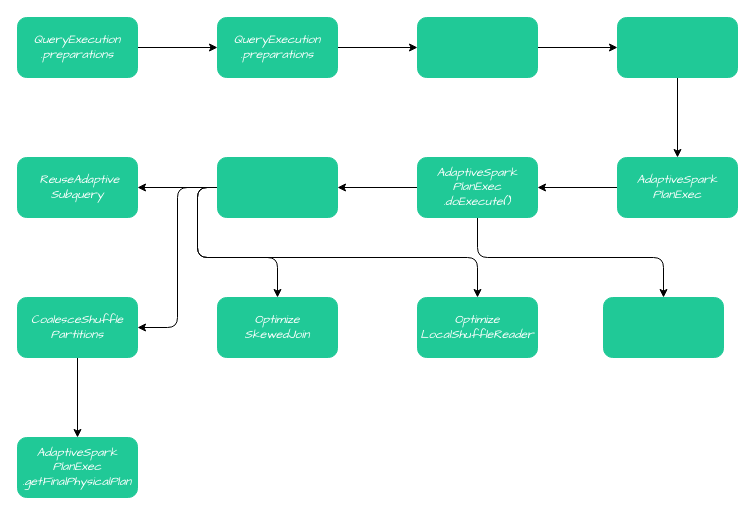
The diagram is 755 pixels wide and 515 high, and some of its shapes have lost their labels. Each missing label, with the centre of its shape:
"AdaptiveSpark PlanExec . optimizer" belongs at point (663, 327).
"AdaptiveSpark PlanExec .queryStage OptimizerRules" belongs at point (277, 187).
"InsertAdaptive SparkPlan" belongs at point (477, 47).
"InsertAdaptive SparkPlan .applyInternal" belongs at point (677, 47).
